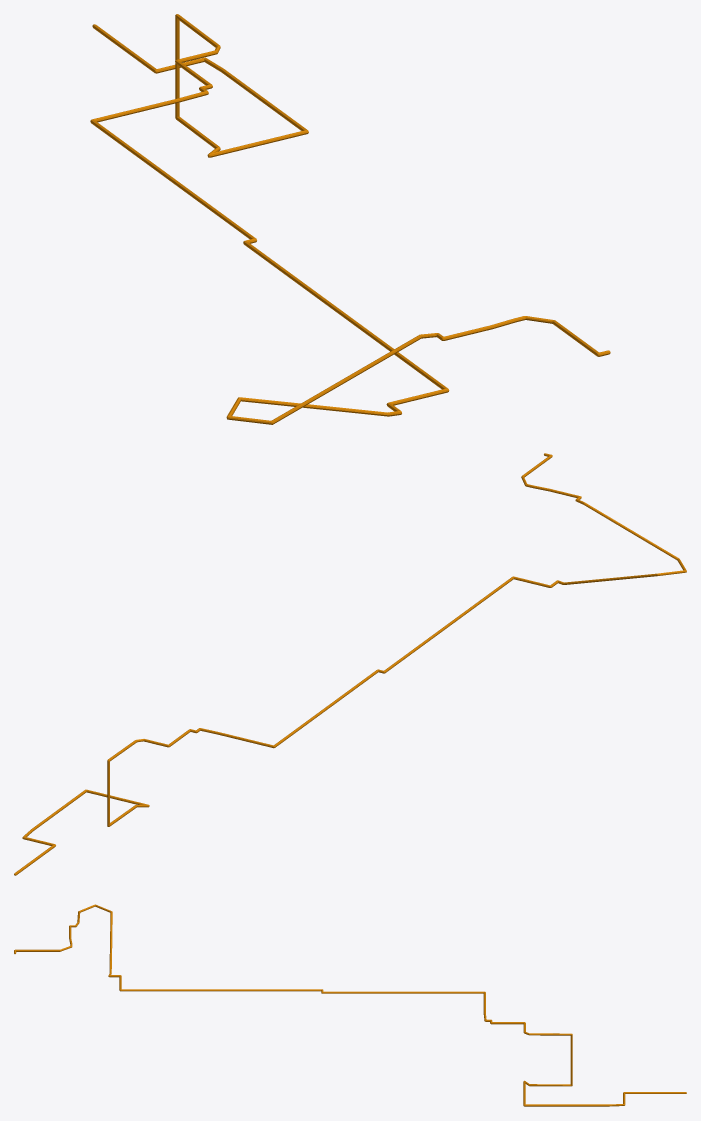
3 views of the same model, one above another, from view 1: azimuth 30°, elevation 25°; view 2: azimuth 150°, elevation 25°; view 3: azimuth 270°, elevation 25° (orthographic). The views are drawn at different scales.
Size of the model in its own units: 2633 by 1020 by 6005.
